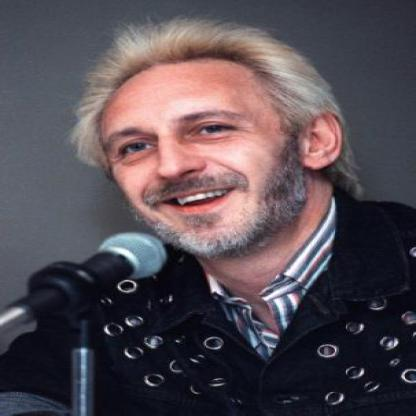face: (99, 46, 304, 260)
